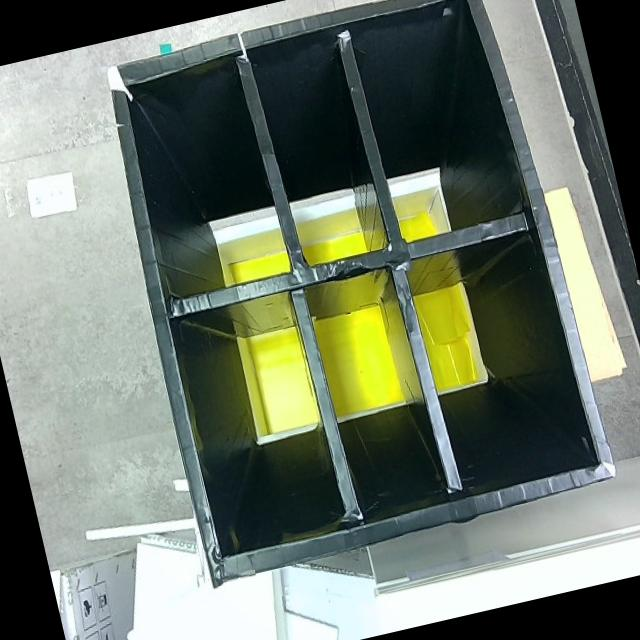box: (90, 0, 620, 585)
